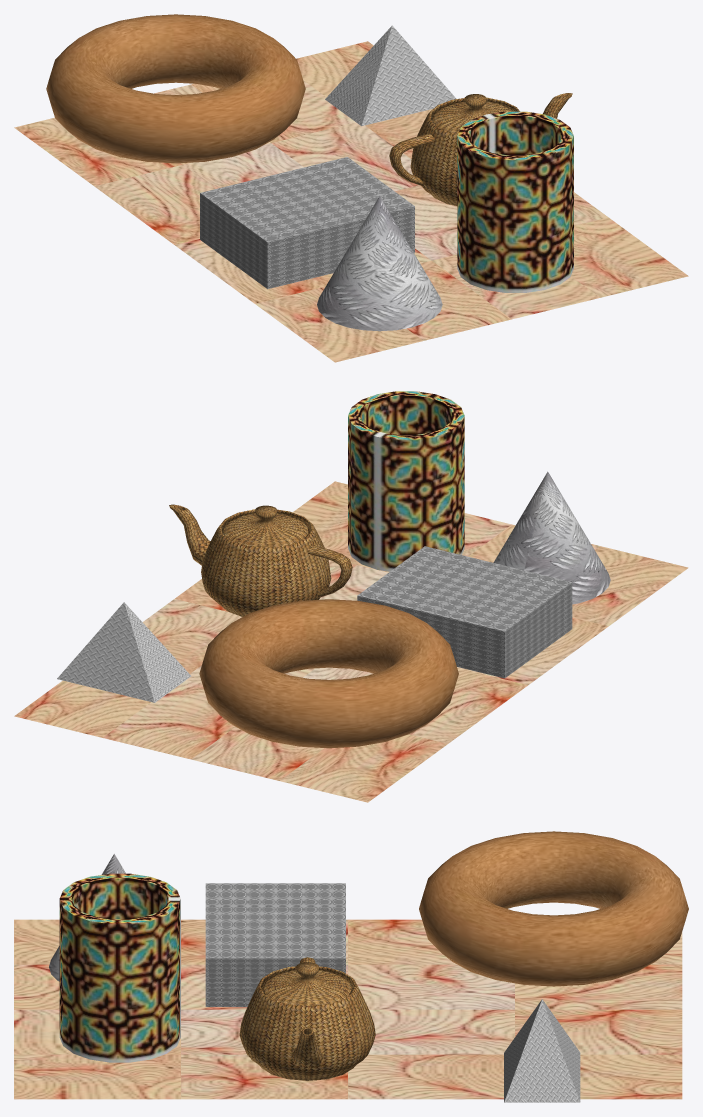
The model's file is escenamaya.dae.
3 renders of one model, top to bottom at view 1: azimuth 30°, elevation 25°; view 2: azimuth 150°, elevation 25°; view 3: azimuth 270°, elevation 25°, orthographic. The views are drawn at different scales.
Visible parts, largest first — view 1: Plane001, Torus001, Tube001, Box001, Cone001, Pyramid001, Teapot001; view 2: Plane001, Torus001, Tube001, Box001, Teapot001, Cone001, Pyramid001; view 3: Plane001, Torus001, Tube001, Box001, Teapot001, Pyramid001, Cone001.
Boxes of the visible parts, x1=… form: Plane001: x1=14, y1=41, x2=688, y2=362; Torus001: x1=46, y1=14, x2=305, y2=163; Tube001: x1=457, y1=111, x2=573, y2=292; Box001: x1=200, y1=157, x2=414, y2=289; Cone001: x1=317, y1=196, x2=442, y2=331; Pyramid001: x1=325, y1=25, x2=456, y2=126; Teapot001: x1=389, y1=93, x2=572, y2=205; Plane001: x1=14, y1=481, x2=688, y2=802; Torus001: x1=199, y1=599, x2=458, y2=748; Tube001: x1=348, y1=391, x2=464, y2=571; Box001: x1=357, y1=546, x2=572, y2=678; Teapot001: x1=169, y1=504, x2=352, y2=616; Cone001: x1=493, y1=471, x2=610, y2=604; Pyramid001: x1=57, y1=602, x2=191, y2=702; Plane001: x1=14, y1=919, x2=682, y2=1099; Torus001: x1=419, y1=831, x2=688, y2=986; Tube001: x1=59, y1=873, x2=180, y2=1062; Box001: x1=205, y1=883, x2=345, y2=1006; Teapot001: x1=239, y1=957, x2=375, y2=1080; Pyramid001: x1=504, y1=999, x2=580, y2=1102; Cone001: x1=49, y1=854, x2=125, y2=981.
Size of the model in its own units: 233 by 75.8 by 335.
